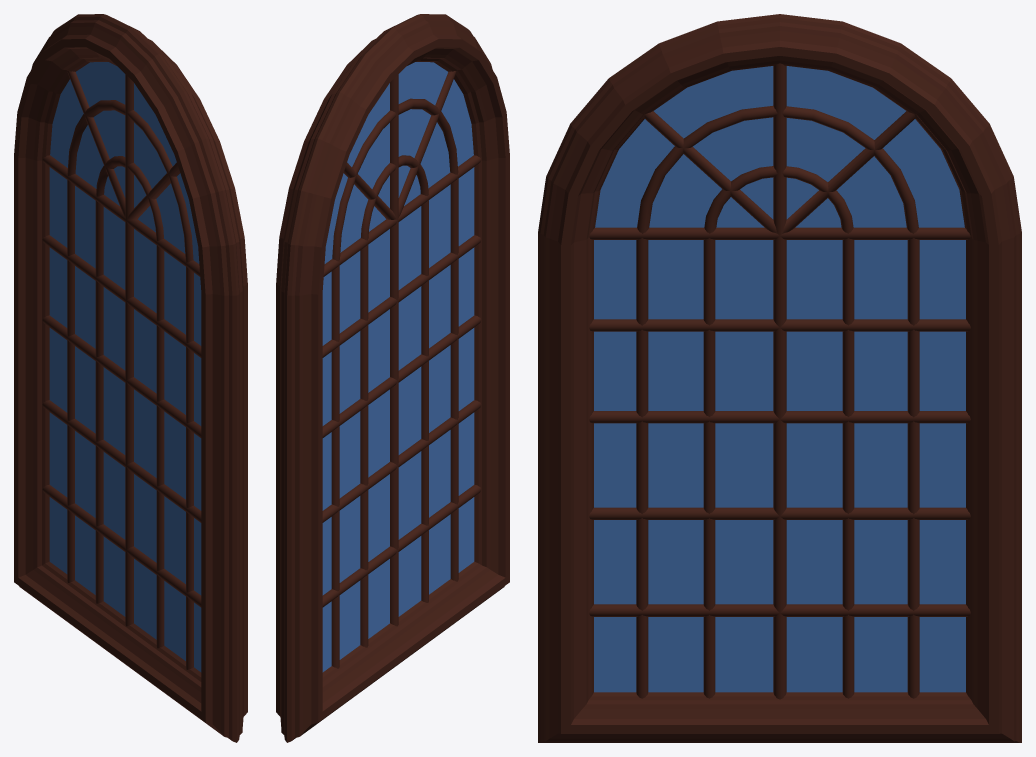
File: Arch_Window3_Large.fbx
3 views of the same model, side by side, from view 1: azimuth 30°, elevation 25°; view 2: azimuth 150°, elevation 25°; view 3: azimuth 270°, elevation 25° (orthographic). The views are drawn at different scales.
Visible parts, largest first — view 1: Frame .002, Glass.002, Inner Rim.001, Outer rim.004, Outer rim.005, Inner Rim.002; view 2: Frame .002, Glass.002, Inner Rim.001, Outer rim.004, Outer rim.005, Inner Rim.002; view 3: Glass.002, Frame .002, Inner Rim.001, Outer rim.004, Outer rim.005, Inner Rim.002.
Part boxes in pixels (bbox=[...]): Frame .002: bbox=[14, 14, 247, 742]; Glass.002: bbox=[49, 62, 201, 672]; Inner Rim.001: bbox=[42, 74, 201, 626]; Outer rim.004: bbox=[67, 100, 193, 669]; Outer rim.005: bbox=[95, 156, 164, 648]; Inner Rim.002: bbox=[67, 71, 180, 219]; Frame .002: bbox=[276, 14, 509, 742]; Glass.002: bbox=[322, 62, 474, 672]; Inner Rim.001: bbox=[322, 74, 481, 626]; Outer rim.004: bbox=[331, 98, 458, 668]; Outer rim.005: bbox=[360, 155, 428, 647]; Inner Rim.002: bbox=[343, 71, 456, 219]; Glass.002: bbox=[594, 66, 965, 692]; Frame .002: bbox=[538, 14, 1021, 742]; Inner Rim.001: bbox=[589, 63, 970, 699]; Outer rim.004: bbox=[636, 106, 919, 698]; Outer rim.005: bbox=[703, 166, 854, 698]; Inner Rim.002: bbox=[644, 111, 915, 233].
Bounding box in the file's own units: 17.08 × 246 × 148.
